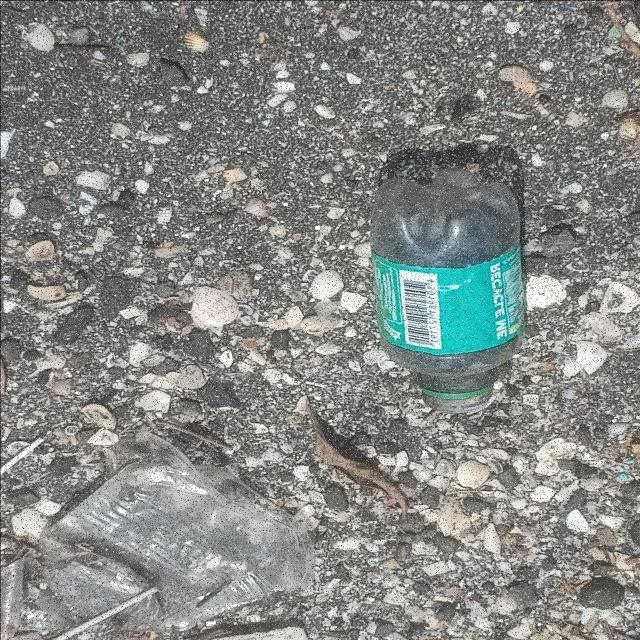plastic_waste: (10, 434, 320, 640), (374, 170, 532, 414)
